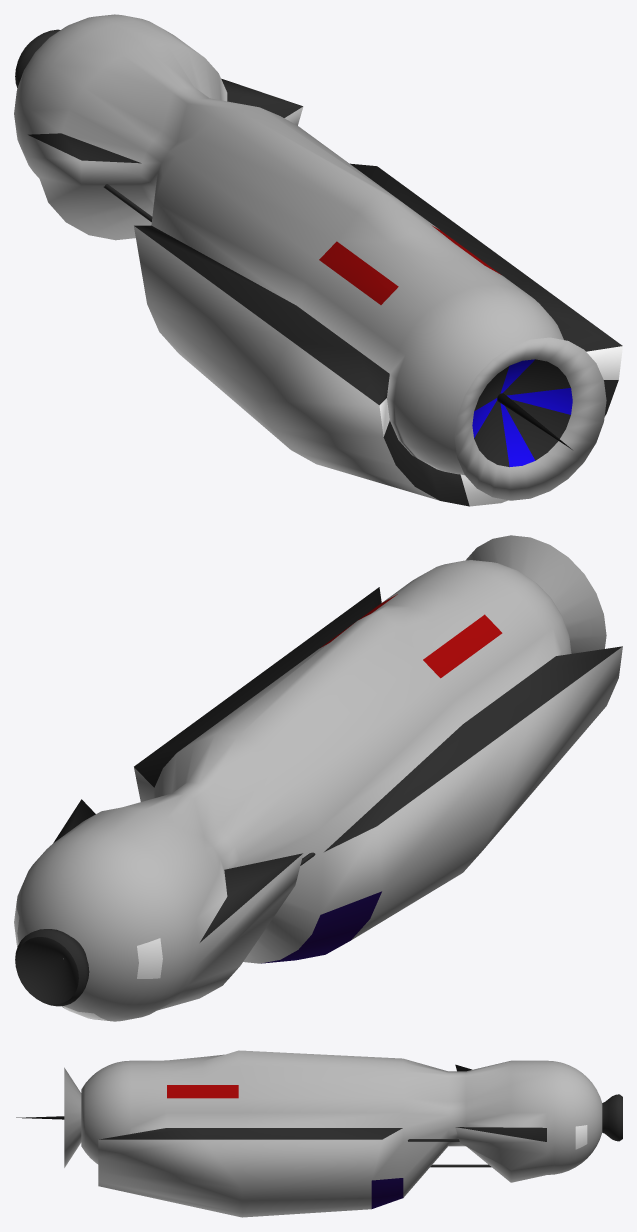
The model's file is NPC Delta Probe.FBX.
3 views of the same model, one above another, from view 1: azimuth 30°, elevation 25°; view 2: azimuth 150°, elevation 25°; view 3: azimuth 270°, elevation 25° (orthographic). The views are drawn at different scales.
Visible parts, largest first — view 1: Hull; view 2: Hull, Thruster; view 3: Hull, Thruster.
Boxes of the visible parts, bbox=[...] form: Hull: bbox=[14, 14, 622, 506]; Hull: bbox=[14, 535, 622, 1021]; Thruster: bbox=[15, 929, 89, 1006]; Hull: bbox=[64, 1050, 602, 1217]; Thruster: bbox=[602, 1094, 622, 1141].
Size of the model in its own units: 2.83 by 3.07 by 10.61.
